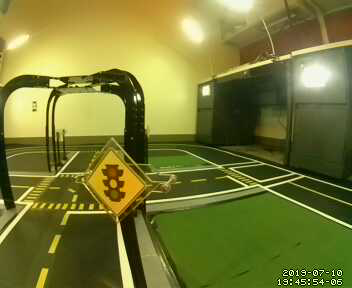Traffic light sign: (85, 147, 143, 222)
